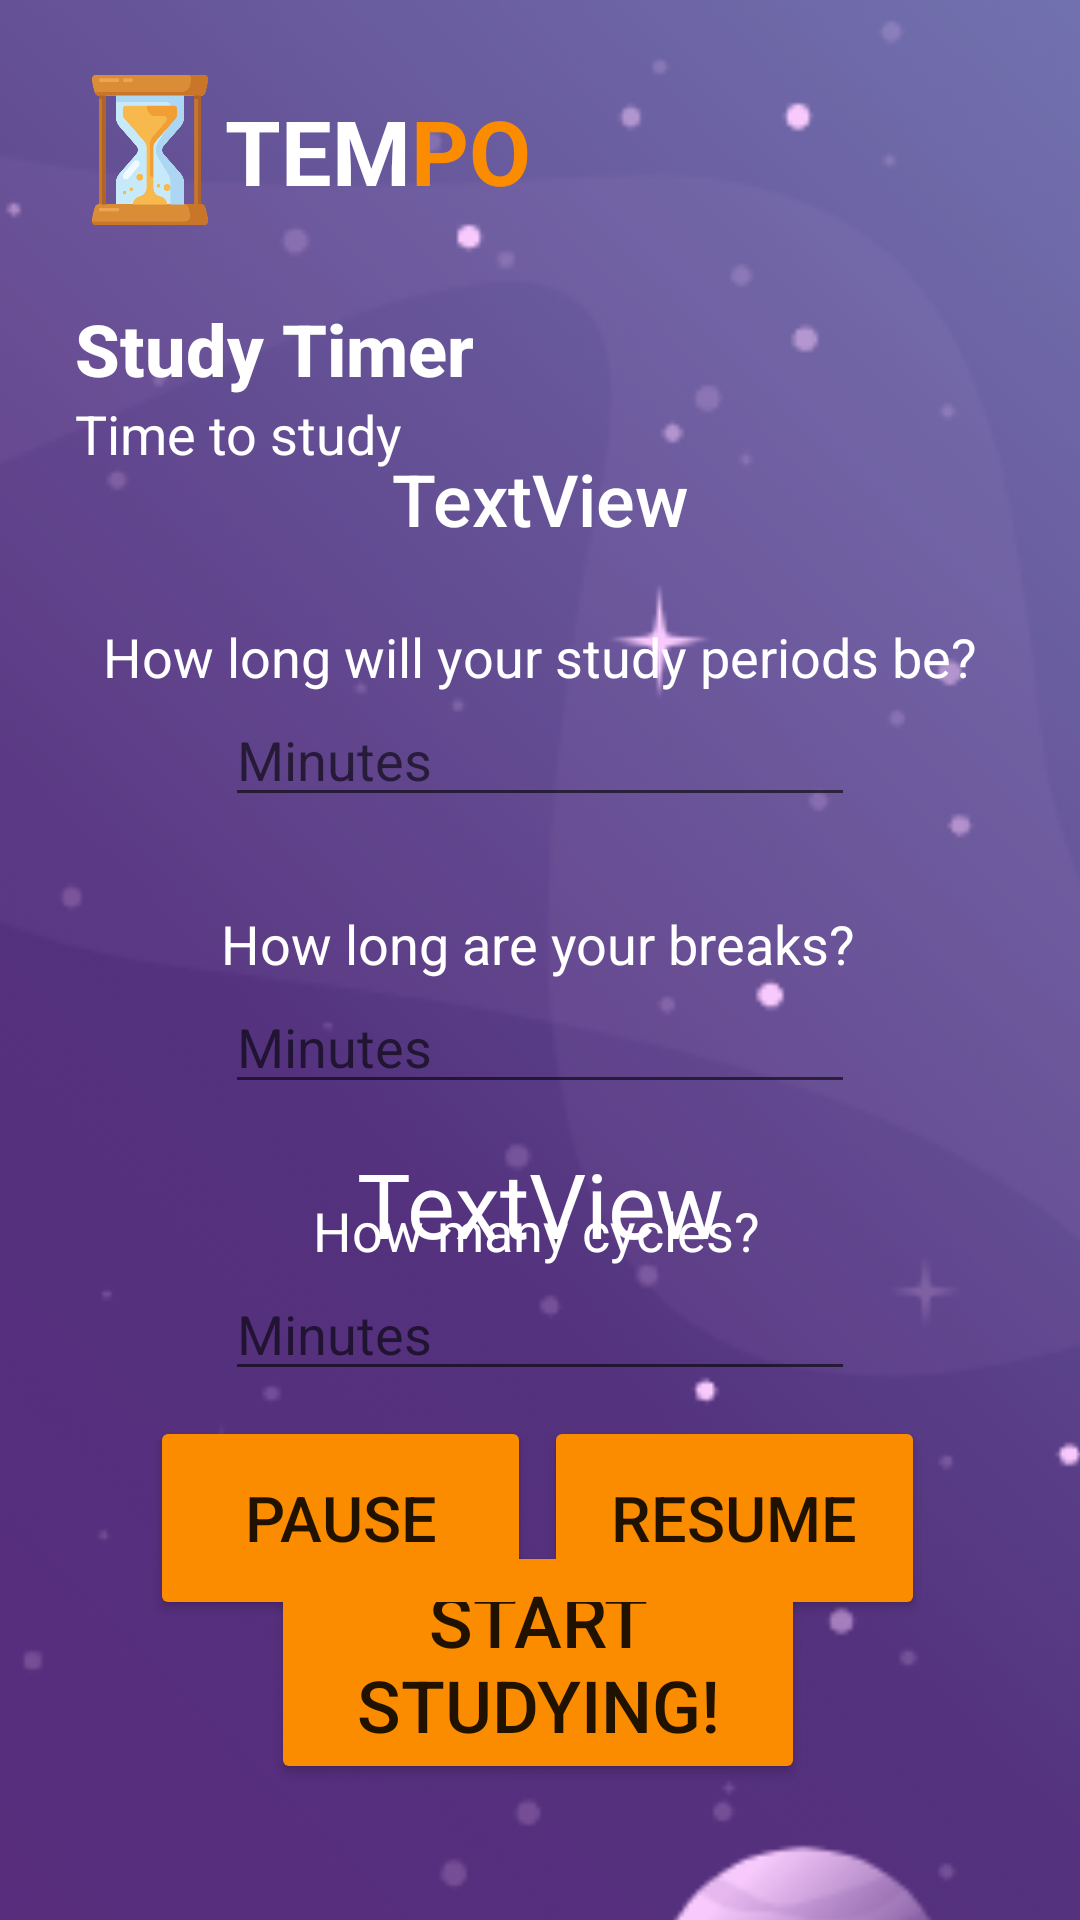

Screen size 1080×1920. Icon name, then its box in pixels as (x1, y1, x2, y2):
hourglass: (92, 75, 208, 225)
